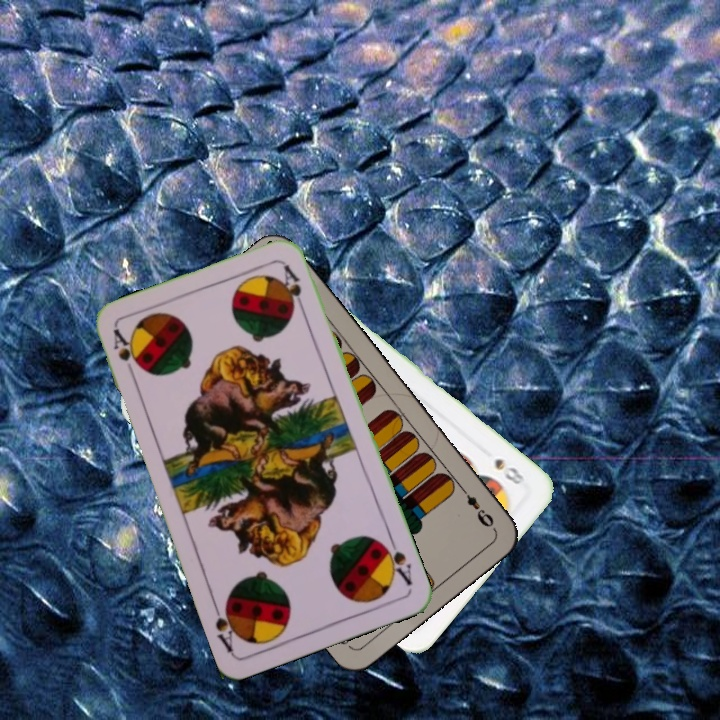E9: (456, 482, 497, 531)
S8: (490, 454, 527, 488)
SA: (377, 533, 415, 588), (109, 325, 143, 382)
